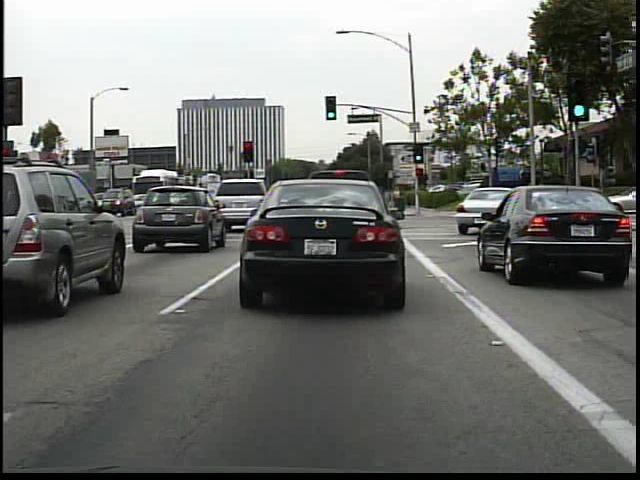person: (388, 181, 409, 215)
